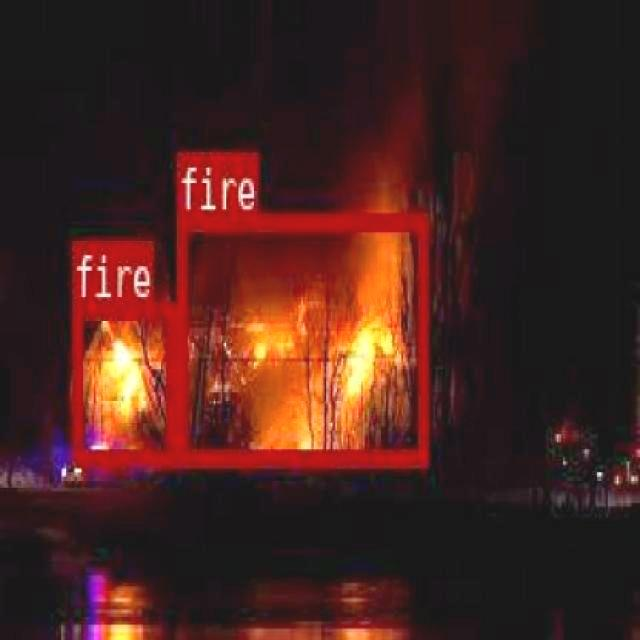fire: (177, 213, 425, 464), (72, 300, 174, 462)
